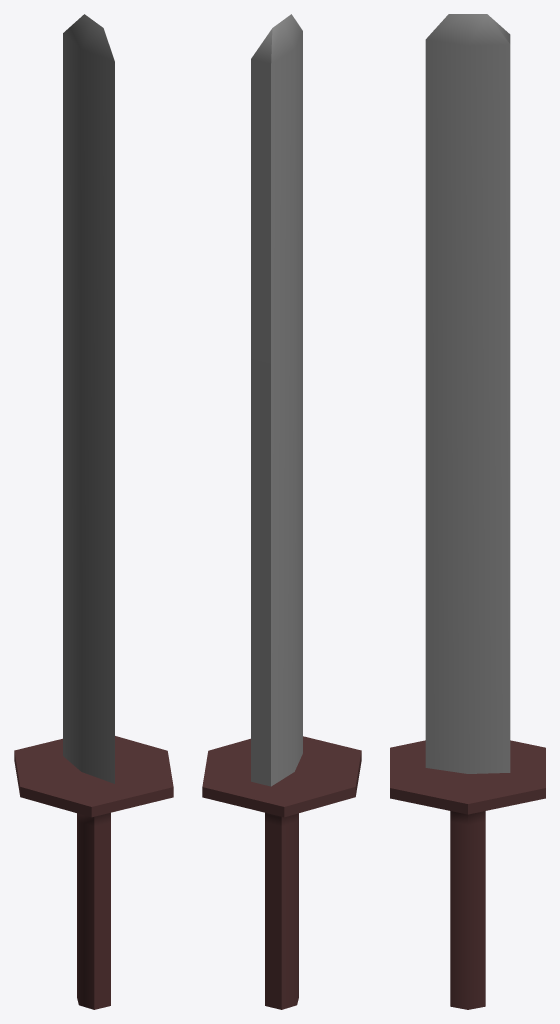
File: Captain_Sword.fbx
The picture shows the model from 3 angles, left to right: view 1: azimuth 30°, elevation 25°; view 2: azimuth 150°, elevation 25°; view 3: azimuth 270°, elevation 25°; orthographic projection.
Visible parts, largest first — view 1: Captain_Sword; view 2: Captain_Sword; view 3: Captain_Sword.
Part boxes in pixels (box(x1,y1,x2,y2)): Captain_Sword: box(14, 14, 173, 1009); Captain_Sword: box(202, 14, 361, 1009); Captain_Sword: box(390, 14, 545, 1009).
Bounding box in the file's own units: 0.3253 × 2.07 × 0.2949.
